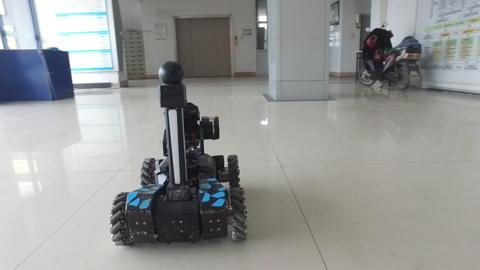chariot: (88, 55, 268, 256)
